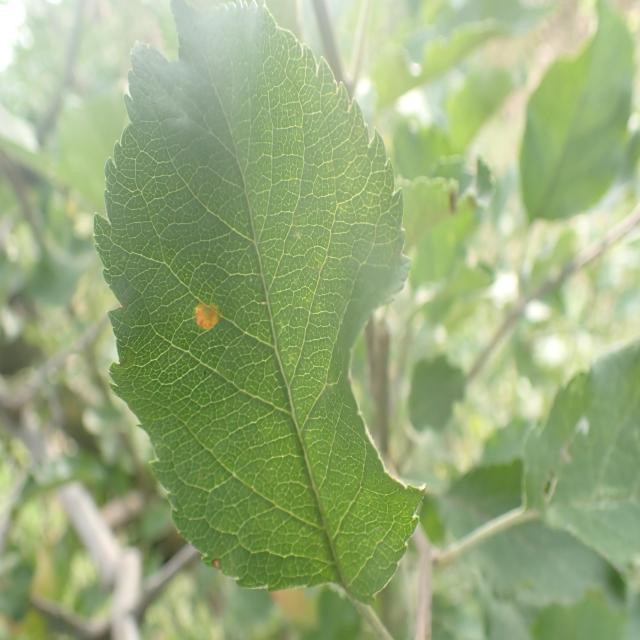Rust: (185, 287, 228, 353)
